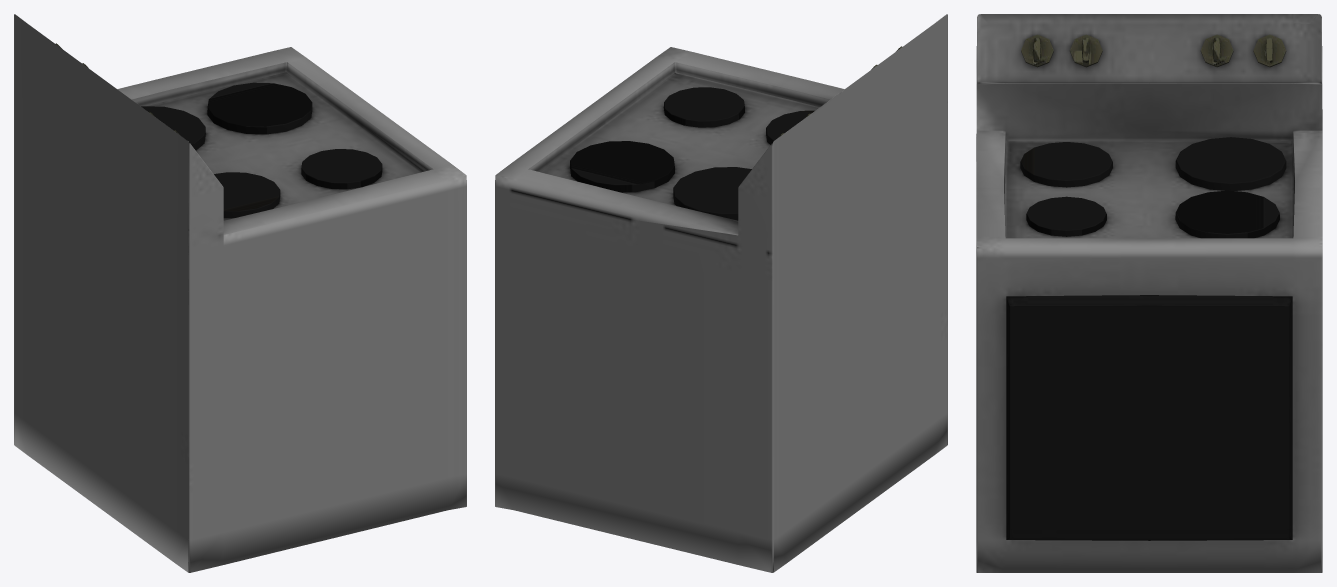
File: oven.fbx
The picture shows the model from 3 angles, left to right: view 1: azimuth 30°, elevation 25°; view 2: azimuth 150°, elevation 25°; view 3: azimuth 270°, elevation 25°; orthographic projection.
Visible parts, largest first — view 1: ovenBody, ovenElements3, ovenElements4, ovenElements1, ovenElements2; view 2: ovenBody, ovenElements3, ovenElements2, ovenElements4, ovenElements1; view 3: ovenBody, OvenDoor1, ovenElements2, ovenElements3, ovenElements1, ovenElements4, ovenSwitches1, ovenSwitches2, ovenSwitches4, ovenSwitches3.
Boxes of the visible parts, <box> form: ovenBody: <box>14,14,466,572</box>; ovenElements3: <box>207,82,312,134</box>; ovenElements4: <box>301,149,382,189</box>; ovenElements1: <box>214,172,280,217</box>; ovenElements2: <box>141,106,205,150</box>; ovenBody: <box>495,14,947,572</box>; ovenElements3: <box>570,141,674,192</box>; ovenElements2: <box>673,167,751,220</box>; ovenElements4: <box>663,87,744,127</box>; ovenElements1: <box>766,110,814,144</box>; ovenBody: <box>976,14,1322,572</box>; OvenDoor1: <box>1006,295,1292,540</box>; ovenElements2: <box>1175,137,1286,190</box>; ovenElements3: <box>1175,190,1279,238</box>; ovenElements1: <box>1020,142,1112,187</box>; ovenElements4: <box>1026,196,1106,236</box>; ovenSwitches1: <box>1200,34,1233,67</box>; ovenSwitches2: <box>1253,34,1286,67</box>; ovenSwitches4: <box>1021,34,1053,67</box>; ovenSwitches3: <box>1070,34,1102,67</box>.
Size of the model in its own units: 65.57 by 94.24 by 69.48.
